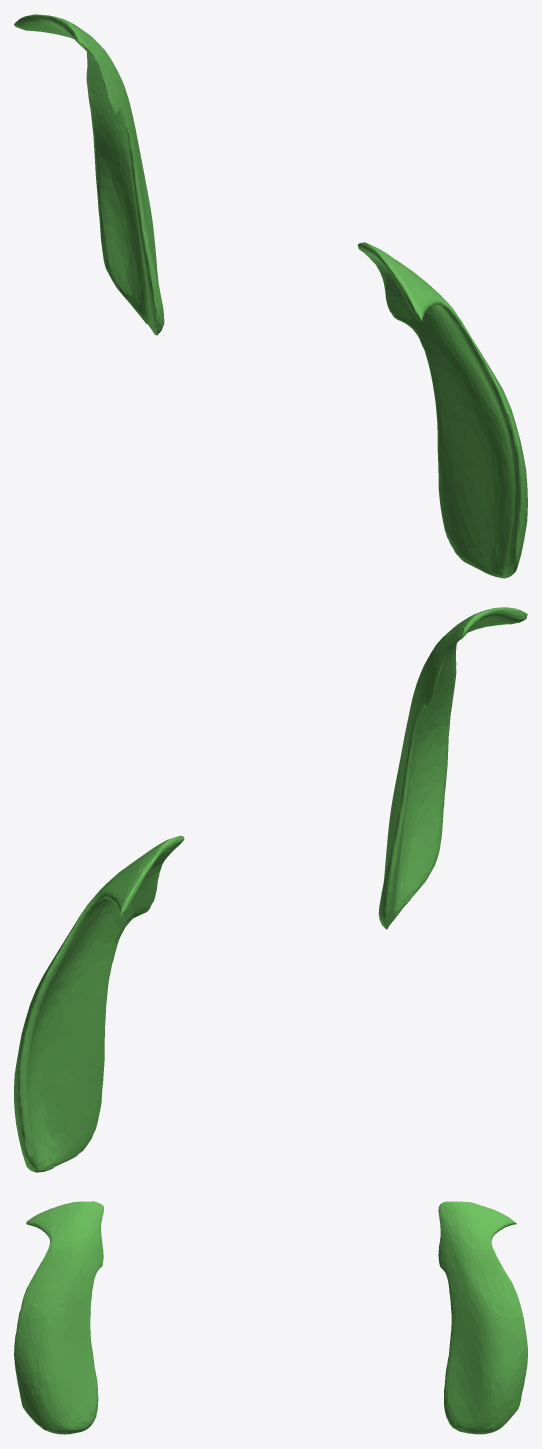
3 renders of one model, top to bottom at view 1: azimuth 30°, elevation 25°; view 2: azimuth 150°, elevation 25°; view 3: azimuth 270°, elevation 25°, orthographic. The views are drawn at different scales.
Parts seen in each view (by area): view 1: 543.obj; view 2: 543.obj; view 3: 543.obj.
Boxes of the visible parts, bbox=[...] form: 543.obj: bbox=[14, 14, 527, 578]; 543.obj: bbox=[14, 607, 527, 1172]; 543.obj: bbox=[14, 1201, 527, 1434].
Size of the model in its own units: 1402 by 3822 by 8733.
